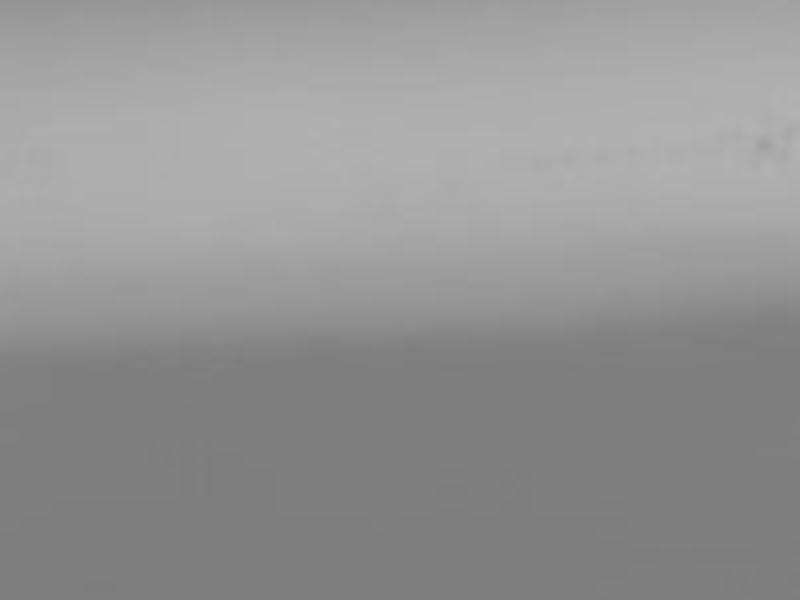defect: (753, 138, 775, 156)
